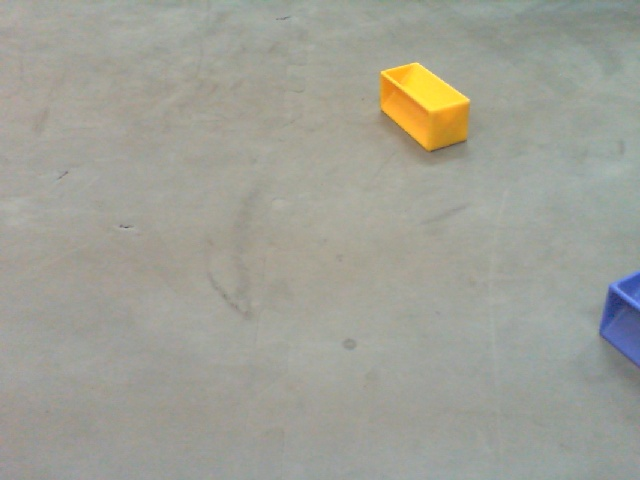BlueSample: (596, 268, 640, 371)
YellowSample: (375, 59, 471, 155)
